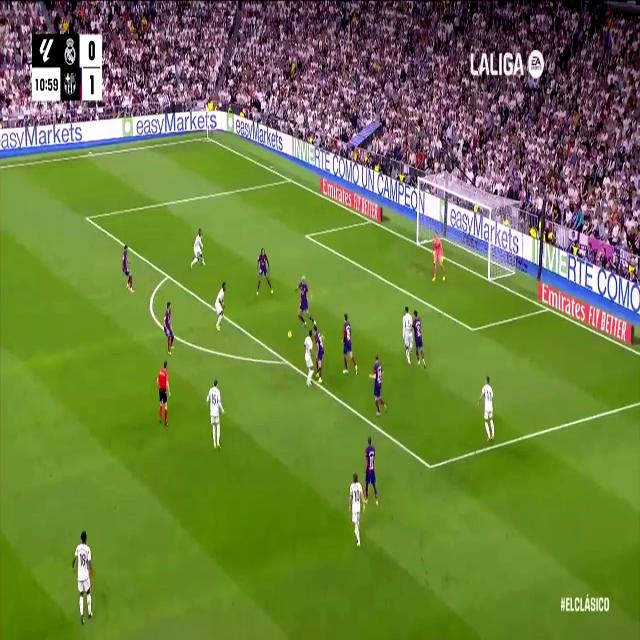bigarea_bottom_inner: (424, 451, 436, 481)
bigarea_top_inner: (83, 208, 91, 226)
bigarea_top_outter: (286, 173, 292, 184)
bottom_arc_area_intersection: (282, 351, 290, 369)
corner: (203, 132, 212, 143)
smallarea_top_inner: (304, 230, 310, 241)
top_arc_area_intersection: (165, 268, 170, 282)
